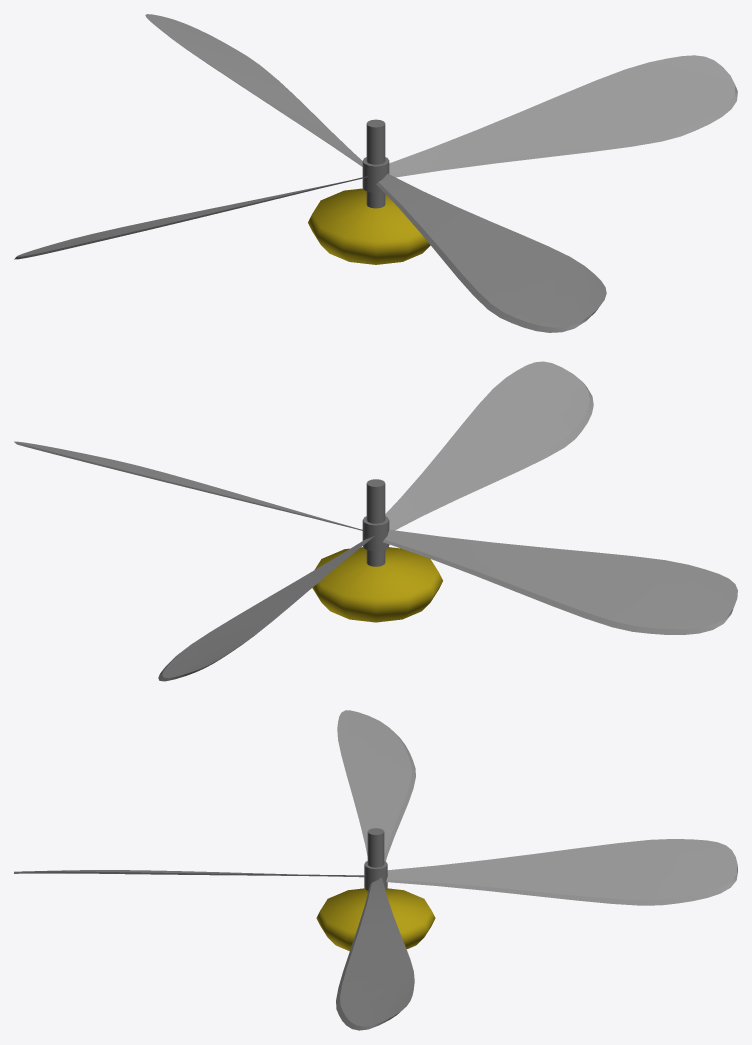
Rendered from Ceiling Fan.FBX.
3 renders of one model, top to bottom at view 1: azimuth 30°, elevation 25°; view 2: azimuth 150°, elevation 25°; view 3: azimuth 270°, elevation 25°, orthographic. The views are drawn at different scales.
Visible parts, largest first — view 1: Fan003, Fan002, Ceiling light, Fan004, Fan1; view 2: Fan1, Fan002, Ceiling light, Fan004, Fan003; view 3: Fan004, Fan003, Fan1, Ceiling light, Fan002.
Part boxes in pixels (x1,y1,x2,y2): Fan003: [389, 55, 737, 177]; Fan002: [376, 174, 606, 332]; Ceiling light: [308, 119, 430, 264]; Fan004: [145, 14, 362, 166]; Fan1: [14, 176, 368, 259]; Fan1: [383, 529, 737, 634]; Fan002: [385, 361, 593, 530]; Ceiling light: [312, 479, 442, 622]; Fan004: [158, 535, 375, 681]; Fan003: [14, 441, 362, 530]; Fan004: [386, 839, 737, 905]; Fan003: [336, 877, 414, 1030]; Fan1: [337, 710, 415, 861]; Ceiling light: [316, 828, 435, 951]; Fan002: [14, 870, 365, 877].
Bounding box in the file's own units: 11526 × 1949 × 11526.
